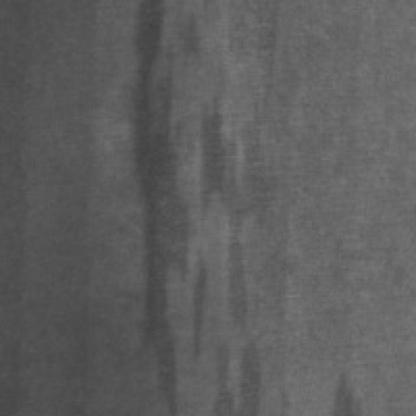inclusion: (131, 0, 260, 408)
